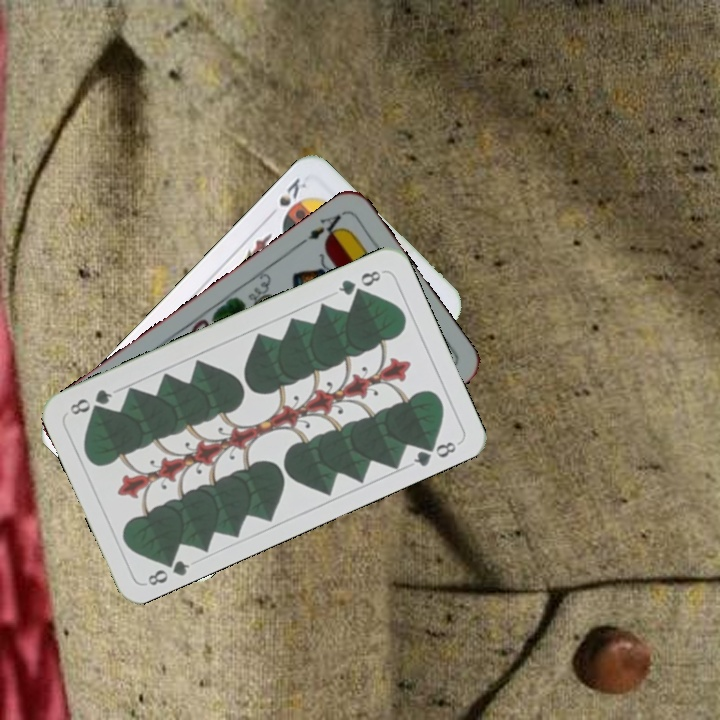EA: (295, 208, 348, 248)
G8: (142, 550, 193, 589), (334, 266, 386, 298)
SK: (263, 173, 309, 222)
